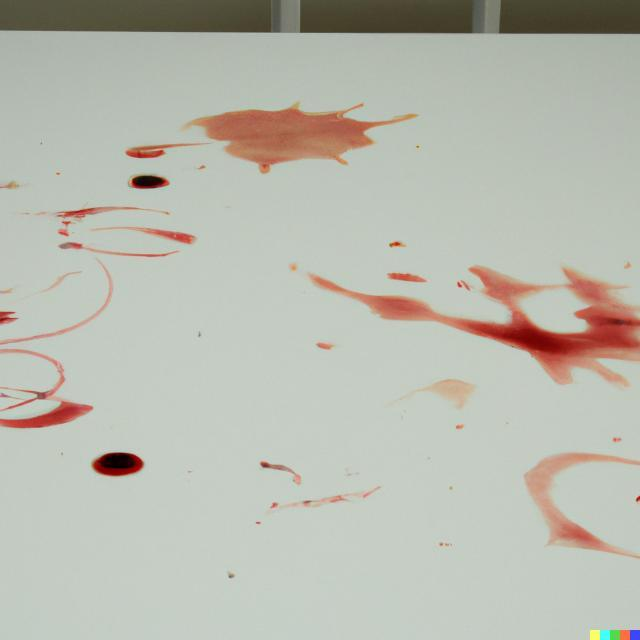blood: (91, 452, 143, 476), (127, 174, 170, 189)
